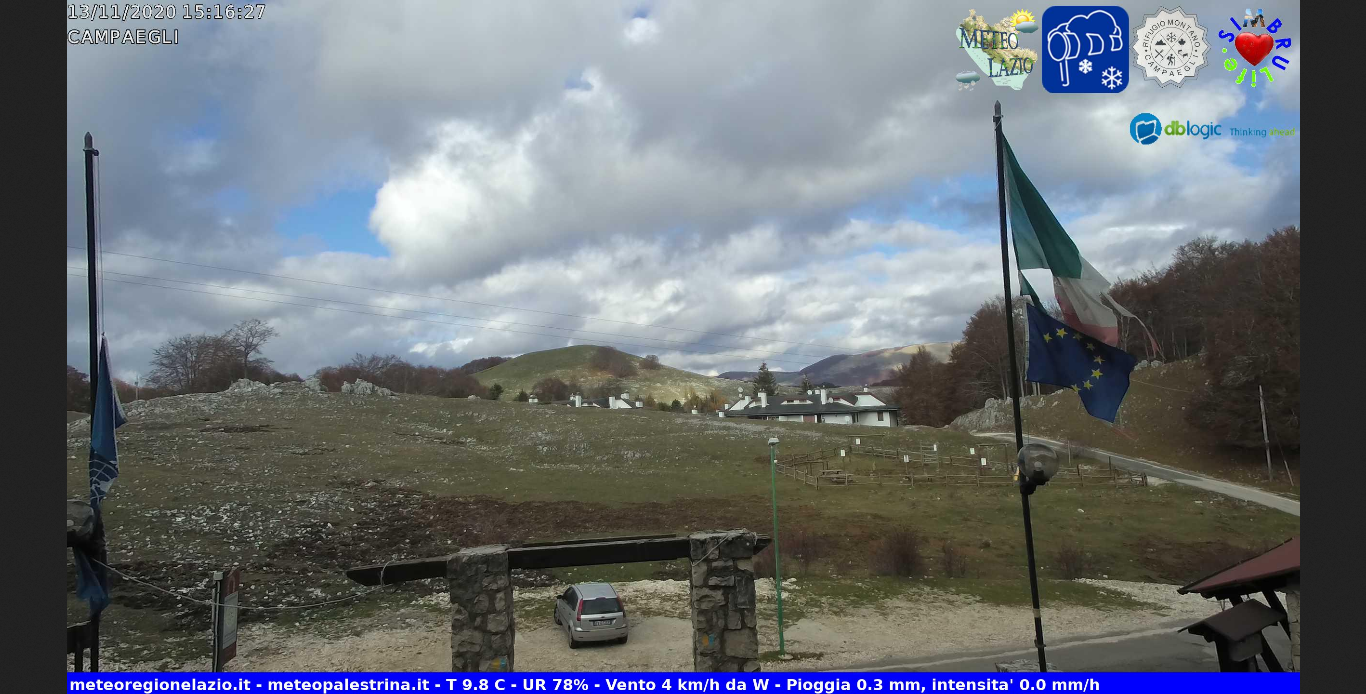maybe: (990, 99, 1162, 348), (1001, 298, 1144, 429)
